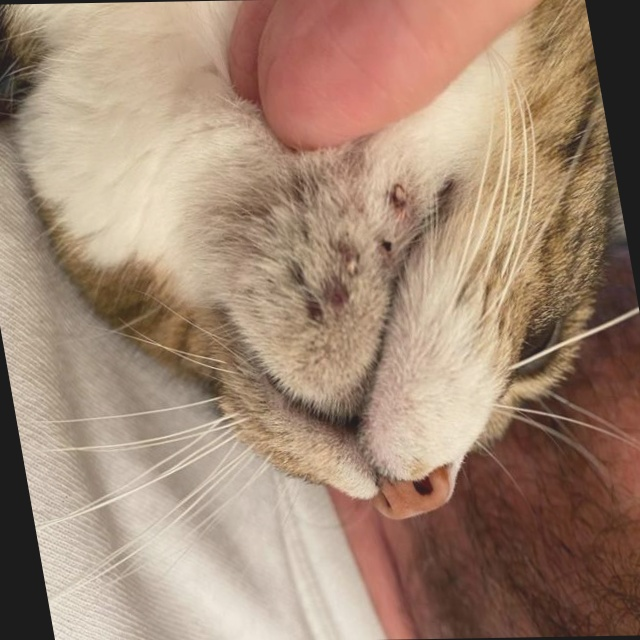acne: (251, 159, 439, 353)
